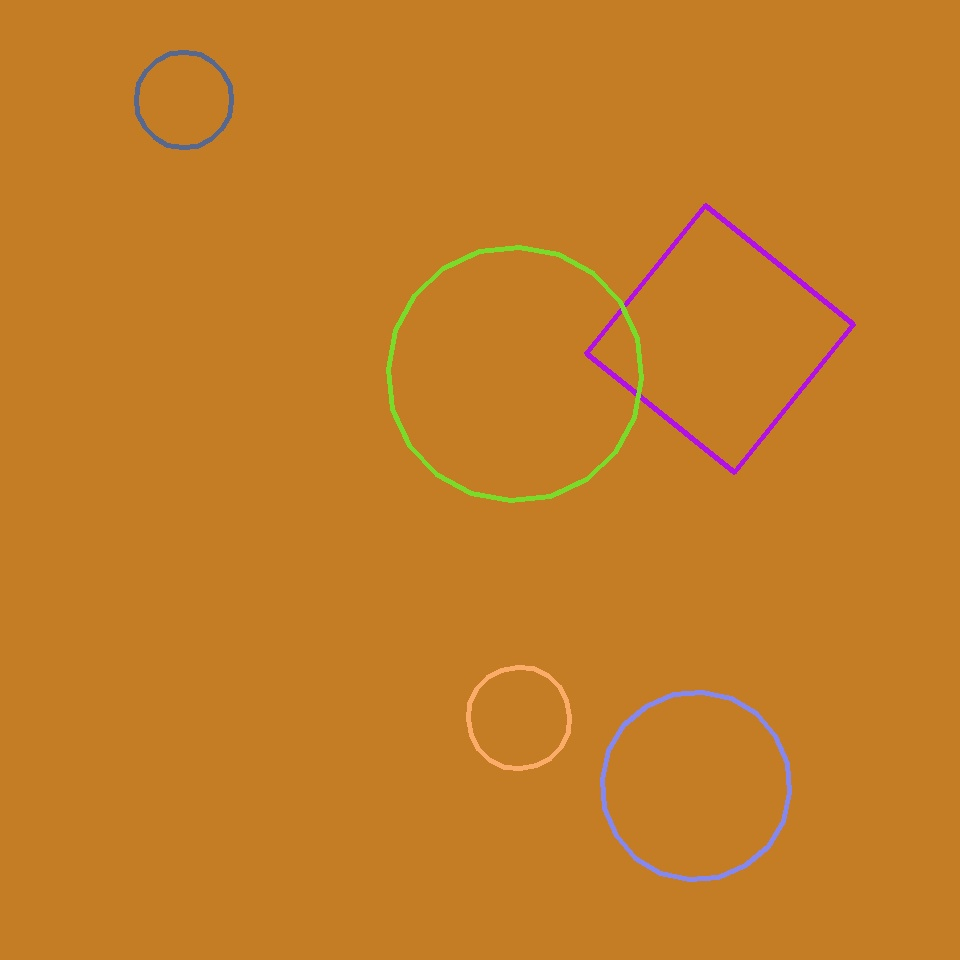square: (586, 206, 854, 472)
triangle: (389, 248, 642, 500), (602, 692, 790, 880), (468, 668, 570, 768), (137, 53, 232, 148)
